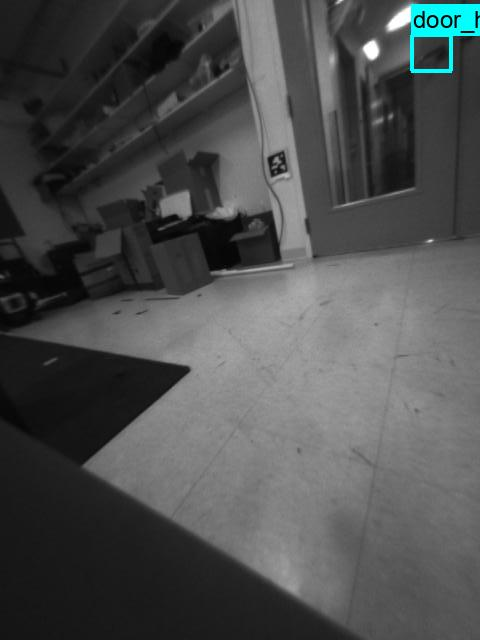door_handle: (410, 40, 450, 68)
